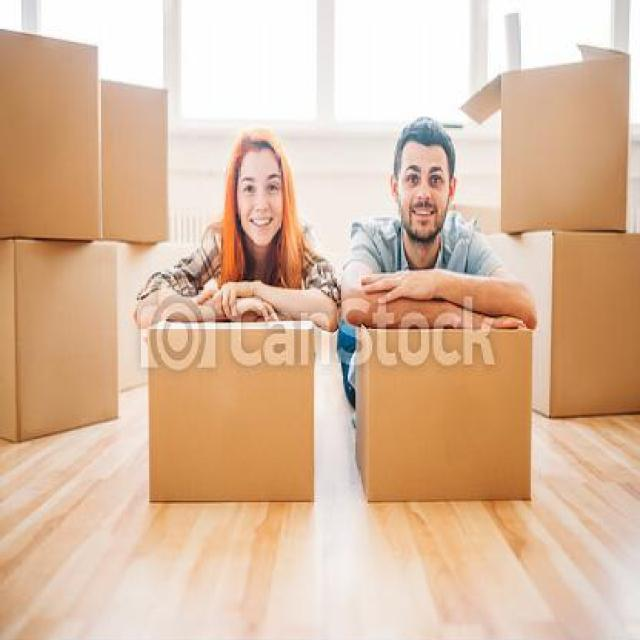box: (336, 303, 544, 543), (134, 302, 334, 536), (448, 28, 640, 245), (0, 216, 134, 456), (512, 204, 639, 442), (0, 6, 105, 260), (81, 63, 188, 253)
